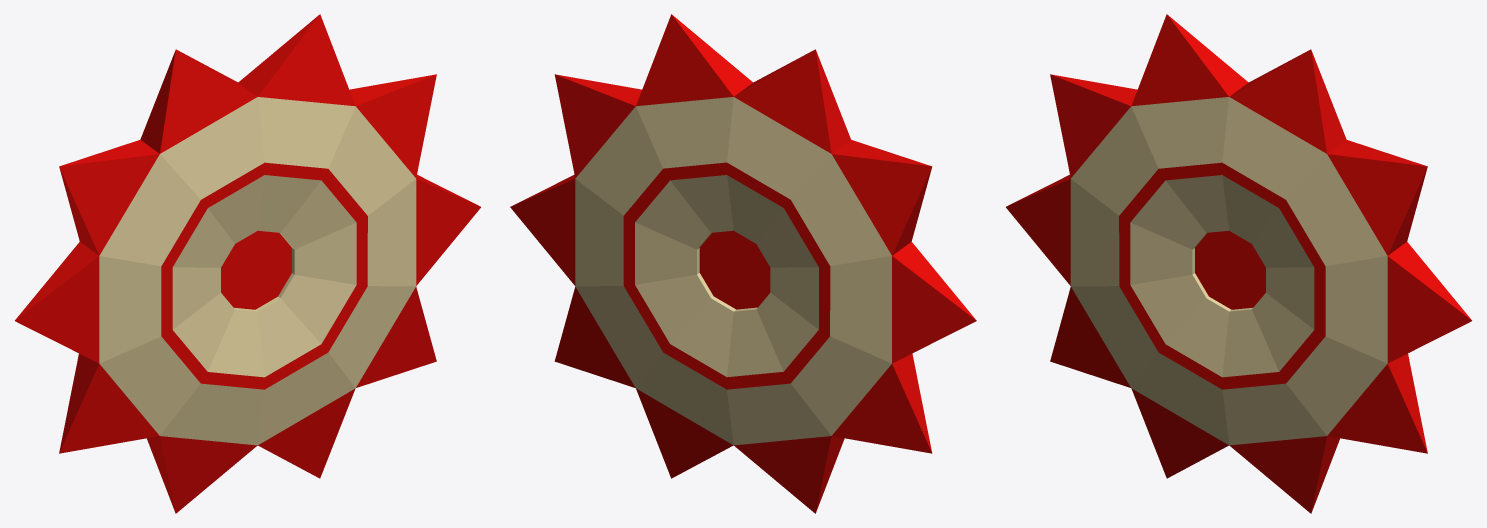
File: Spiked Blade (1).fbx
The picture shows the model from 3 angles, left to right: view 1: azimuth 30°, elevation 25°; view 2: azimuth 150°, elevation 25°; view 3: azimuth 330°, elevation 25°; orthographic projection.
Visible parts, largest first — view 1: Spiked_Blade__1_; view 2: Spiked_Blade__1_; view 3: Spiked_Blade__1_.
Part boxes in pixels (x1,y1,x2,y2): Spiked_Blade__1_: (15,14,480,513); Spiked_Blade__1_: (510,14,976,513); Spiked_Blade__1_: (1006,14,1471,513).
Size of the model in its own units: 180 by 172 by 22.23.
